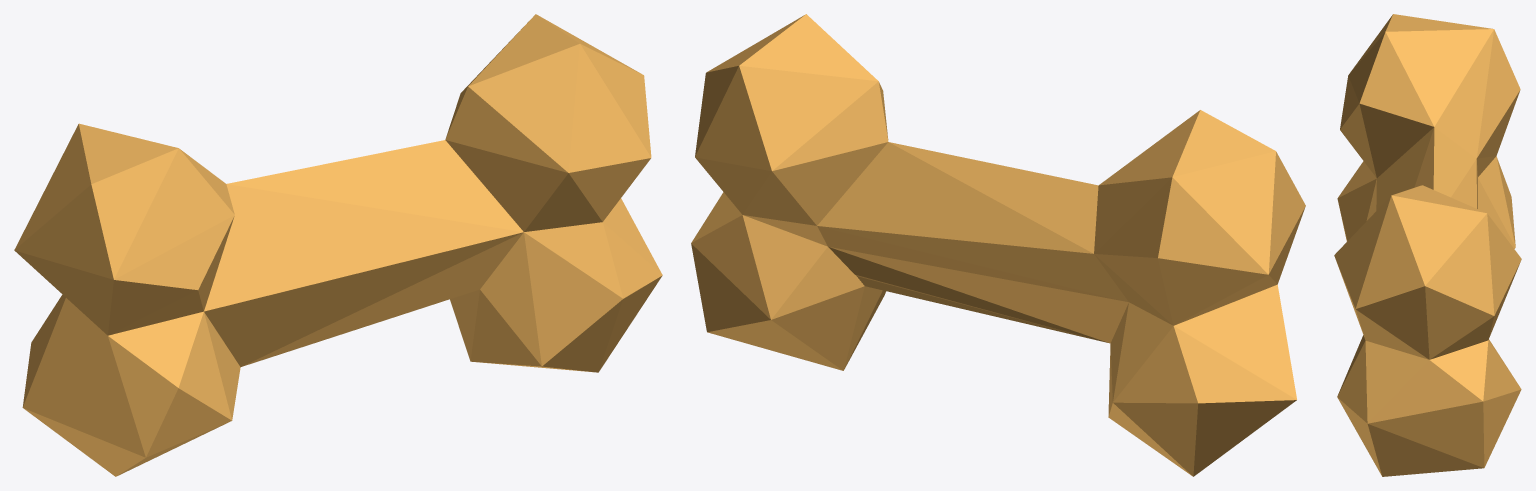
File: dogbone.fbx
3 views of the same model, side by side, from view 1: azimuth 30°, elevation 25°; view 2: azimuth 150°, elevation 25°; view 3: azimuth 270°, elevation 25° (orthographic). The views are drawn at different scales.
Visible parts, largest first — view 1: obj_0; view 2: obj_0; view 3: obj_0.
Part boxes in pixels (x1,y1,x2,y2): obj_0: (14,14,662,476); obj_0: (691,14,1305,476); obj_0: (1334,14,1521,476).
Size of the model in its own units: 2416 by 1313 by 756.
